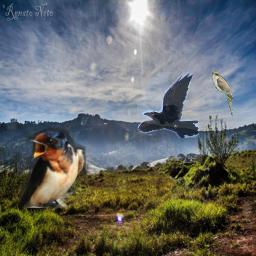Crow: (137, 72, 199, 138)
Cuckoo: (209, 70, 234, 117)
Swallow: (19, 127, 86, 208)
